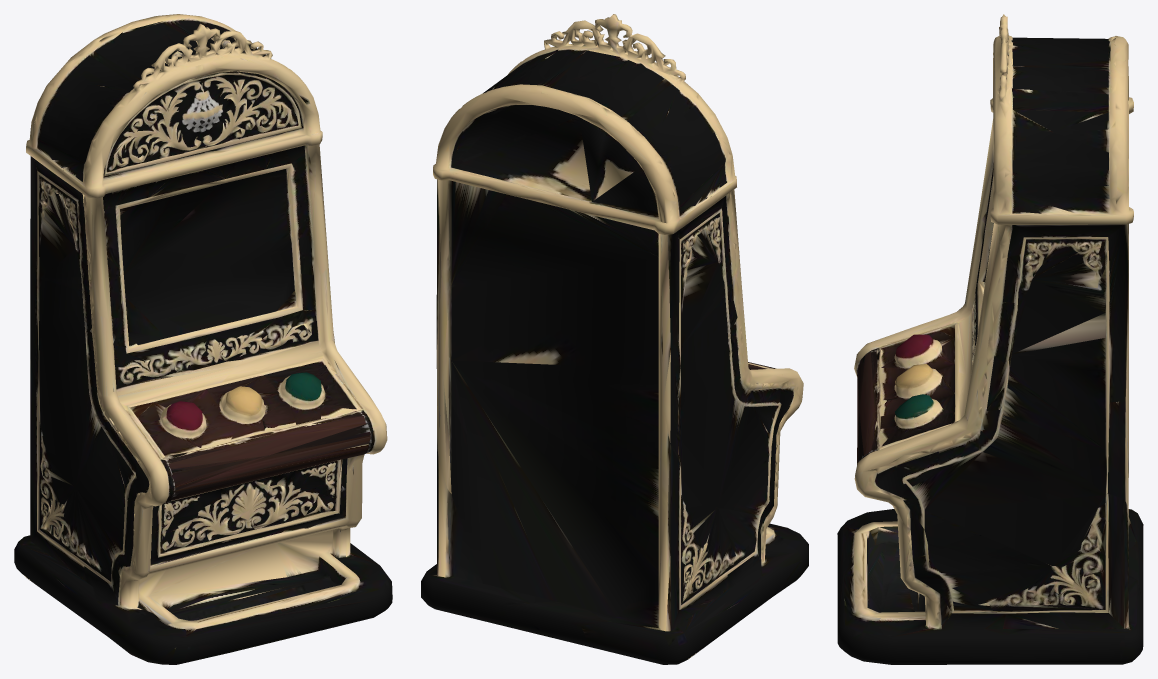
File: slotHigh.glb
3 views of the same model, side by side, from view 1: azimuth 30°, elevation 25°; view 2: azimuth 150°, elevation 25°; view 3: azimuth 270°, elevation 25° (orthographic). The views are drawn at different scales.
Parts seen in each view (by area): view 1: Mesh_0; view 2: Mesh_0; view 3: Mesh_0.
Boxes of the visible parts, x1=… form: Mesh_0: x1=14, y1=14, x2=392, y2=664; Mesh_0: x1=421, y1=14, x2=808, y2=664; Mesh_0: x1=837, y1=14, x2=1143, y2=664.
Size of the model in its own units: 1.21 by 2.5 by 1.19.
Materials: 1 (1 with a texture image).
